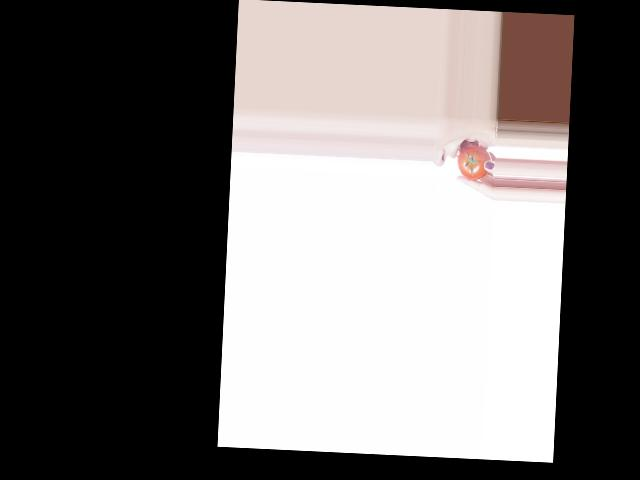tomato: (456, 145, 492, 181)
